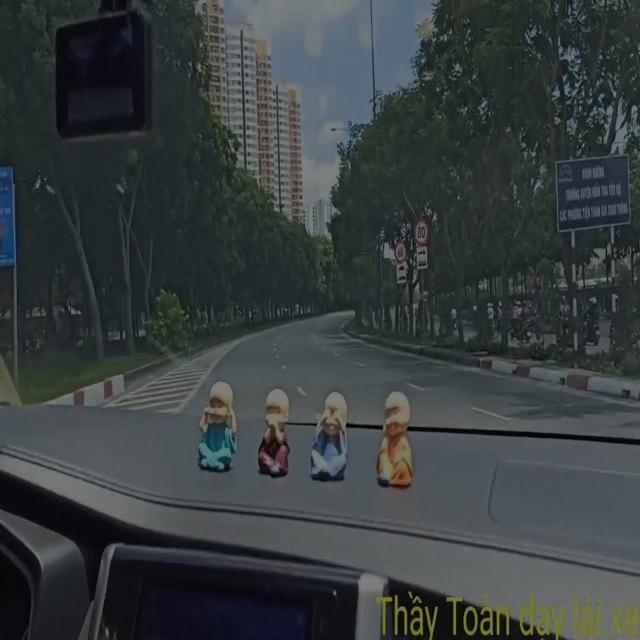Biển phụ: (414, 242, 429, 269), (394, 260, 408, 284)
Giới hạn tốc độ: 60Km/h: (394, 236, 408, 261)
Giới hạn tốc độ: 80Km/h: (412, 217, 429, 244)
Khác: (557, 154, 634, 228)
